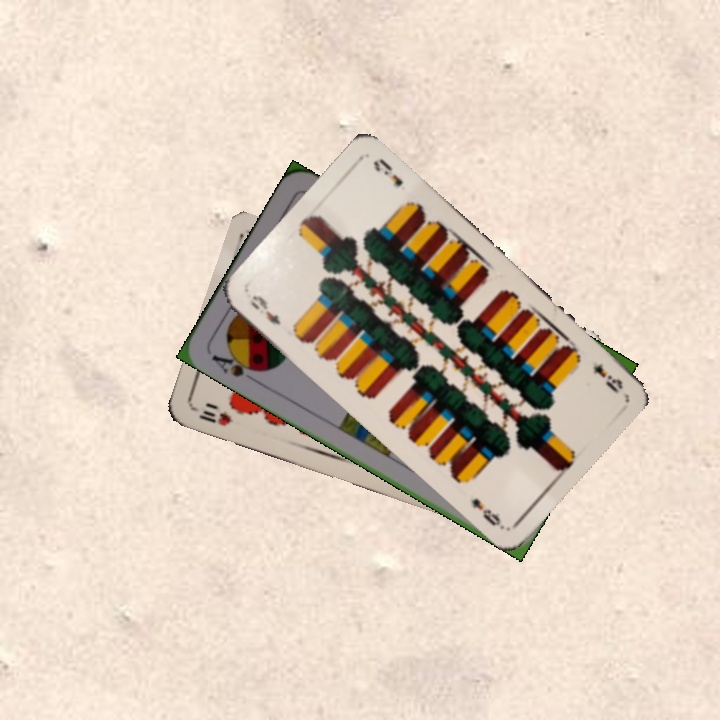E9: (246, 291, 284, 328), (588, 359, 626, 396)
H10: (189, 403, 235, 429)
SA: (207, 347, 265, 386)
